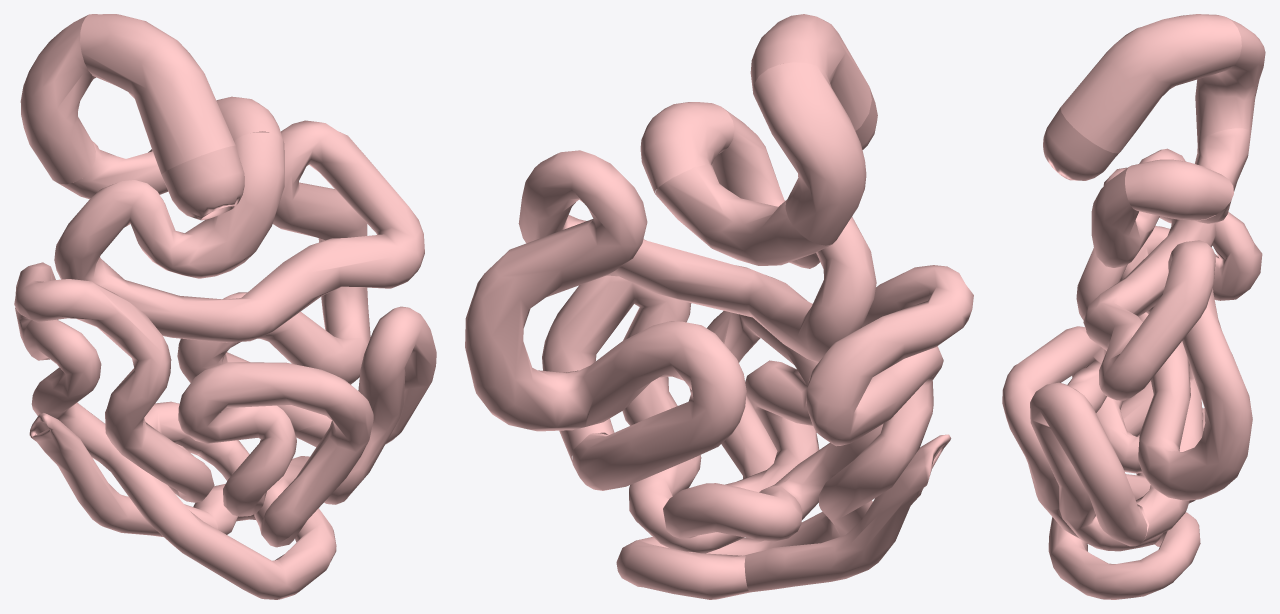
Rendered from intestine_small.glb.
3 views of the same model, side by side, from view 1: azimuth 30°, elevation 25°; view 2: azimuth 150°, elevation 25°; view 3: azimuth 270°, elevation 25° (orthographic). The views are drawn at different scales.
Parts seen in each view (by area): view 1: VH_F_ileum, VH_F_jejenum, VH_F_duodenum_superior, VH_F_duodenum_descending, VH_F_ileum_terminal, VH_F_duodenal_ampulla, VH_F_duodenum_horizontal, VH_F_duodenum_ascending; view 2: VH_F_ileum, VH_F_jejenum, VH_F_duodenum_descending, VH_F_ileum_terminal, VH_F_duodenum_horizontal, VH_F_duodenum_superior, VH_F_duodenum_ascending; view 3: VH_F_jejenum, VH_F_ileum, VH_F_duodenum_superior, VH_F_duodenum_ascending, VH_F_duodenum_descending, VH_F_duodenal_ampulla, VH_F_duodenum_horizontal.
Part boxes in pixels (<box>): VH_F_ileum: <box>14,262,436,599</box>; VH_F_jejenum: <box>54,120,424,447</box>; VH_F_duodenum_superior: <box>80,14,235,174</box>; VH_F_duodenum_descending: <box>20,15,95,184</box>; VH_F_ileum_terminal: <box>29,413,217,536</box>; VH_F_duodenal_ampulla: <box>161,145,244,220</box>; VH_F_duodenum_horizontal: <box>59,141,168,199</box>; VH_F_duodenum_ascending: <box>216,96,282,140</box>; VH_F_ileum: <box>542,265,973,599</box>; VH_F_jejenum: <box>465,108,876,490</box>; VH_F_duodenum_descending: <box>753,62,866,245</box>; VH_F_ileum_terminal: <box>744,434,951,592</box>; VH_F_duodenum_horizontal: <box>655,164,831,265</box>; VH_F_duodenum_superior: <box>750,14,871,130</box>; VH_F_duodenum_ascending: <box>640,102,734,193</box>; VH_F_jejenum: <box>1083,148,1252,543</box>; VH_F_ileum: <box>1002,167,1262,599</box>; VH_F_duodenum_superior: <box>1060,14,1241,153</box>; VH_F_duodenum_ascending: <box>1125,159,1233,220</box>; VH_F_duodenum_descending: <box>1195,17,1265,142</box>; VH_F_duodenal_ampulla: <box>1043,107,1119,180</box>; VH_F_duodenum_horizontal: <box>1194,128,1251,223</box>.
Size of the model in its own units: 0.1615 by 0.2166 by 0.1.
